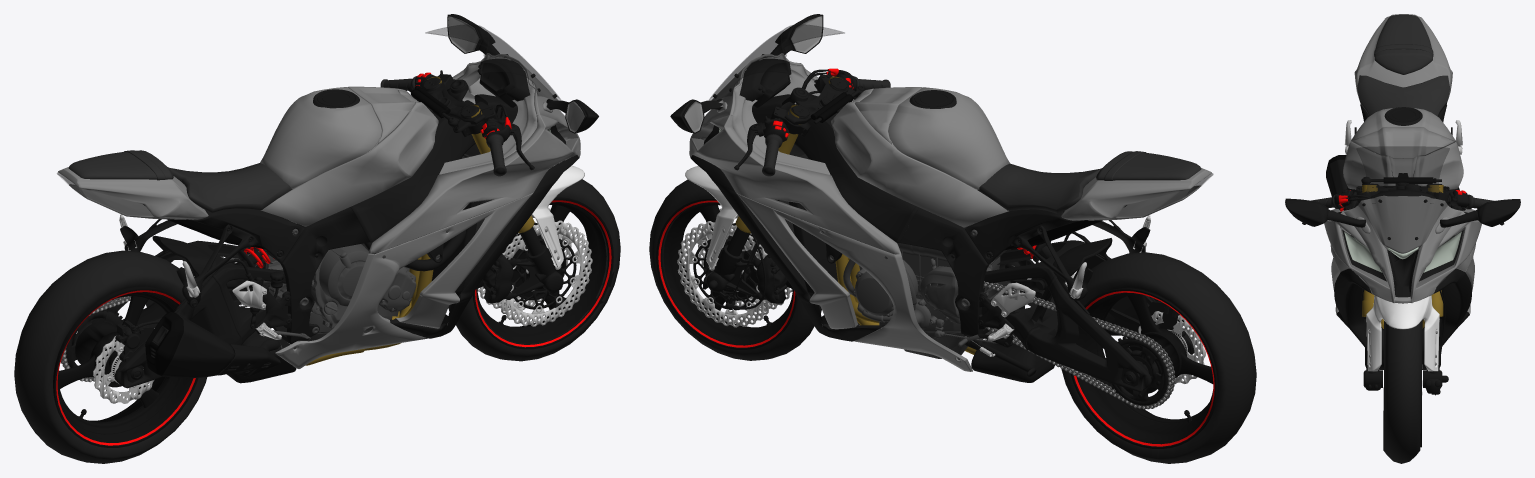
File: kawasaki-zx10r.glb
3 renders of one model, left to right at view 1: azimuth 30°, elevation 25°; view 2: azimuth 150°, elevation 25°; view 3: azimuth 270°, elevation 25°, orthographic. The views are drawn at different scales.
Parts seen in each view (by area): view 1: body, wheel_rear_mesh, wheel_front_mesh; view 2: body, wheel_rear_mesh, wheel_front_mesh; view 3: body, wheel_front_mesh.
Boxes of the visible parts, bbox=[...] form: body: bbox=[57, 14, 614, 418]; wheel_rear_mesh: bbox=[14, 250, 207, 463]; wheel_front_mesh: bbox=[448, 179, 620, 361]; body: bbox=[670, 14, 1213, 422]; wheel_rear_mesh: bbox=[1061, 252, 1256, 463]; wheel_front_mesh: bbox=[649, 179, 821, 360]; body: bbox=[1285, 14, 1520, 395]; wheel_front_mesh: bbox=[1363, 320, 1448, 463].
Size of the model in its own units: 2.09 by 1.14 by 0.8372.
